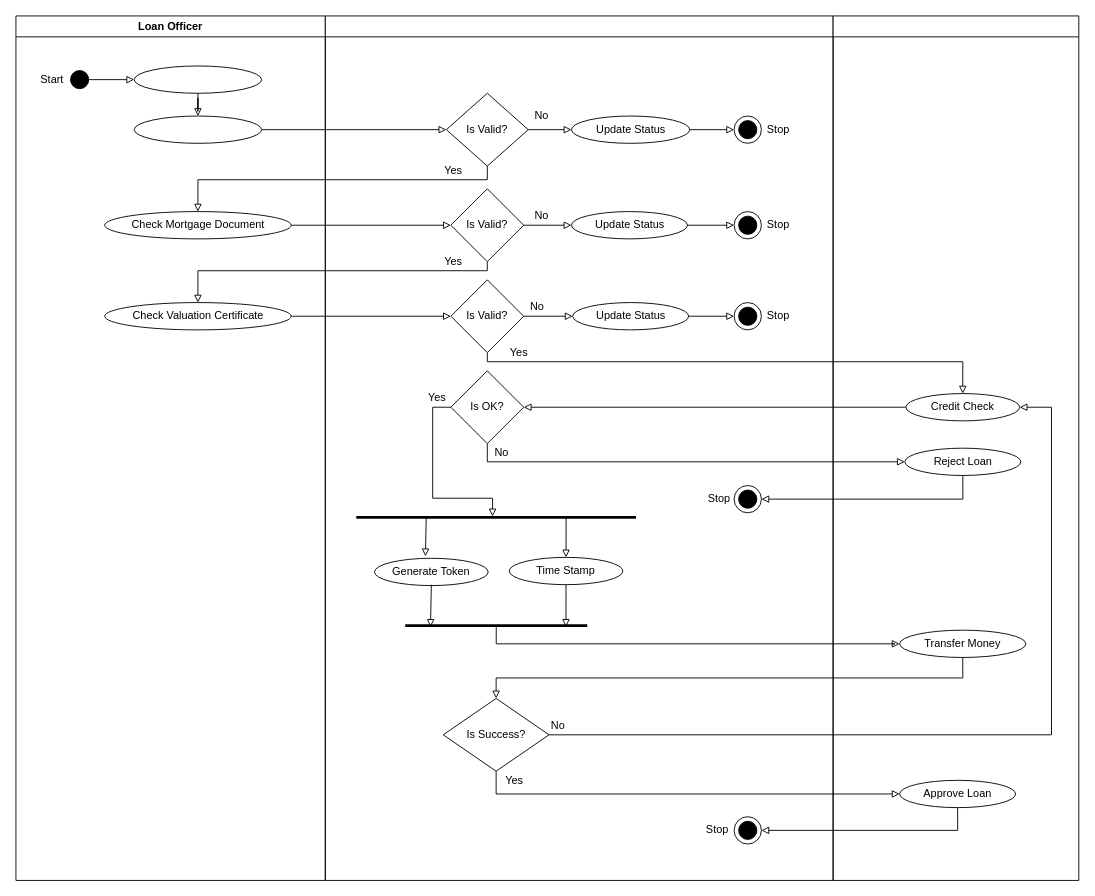
The diagram is 1095 pixels wide and 896 high, and some of its shapes have lost their labels. Here are the shapes that lost their labels. From the top down, the centre of each, then its label:
At (x=197, y=79): "Review Application".
At (x=197, y=129): "Check Pan Card".
At (x=578, y=447): "Loan Management System".
At (x=955, y=447): "Loan Manager".
